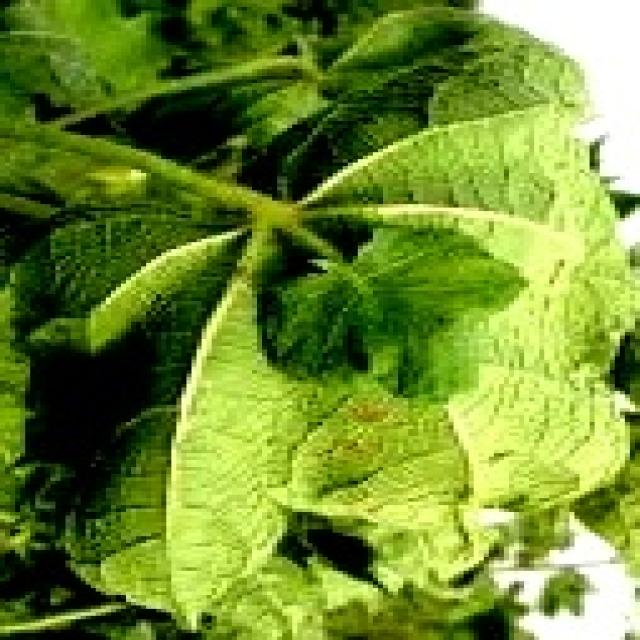Leaf Curl Virus: (45, 213, 560, 502)
